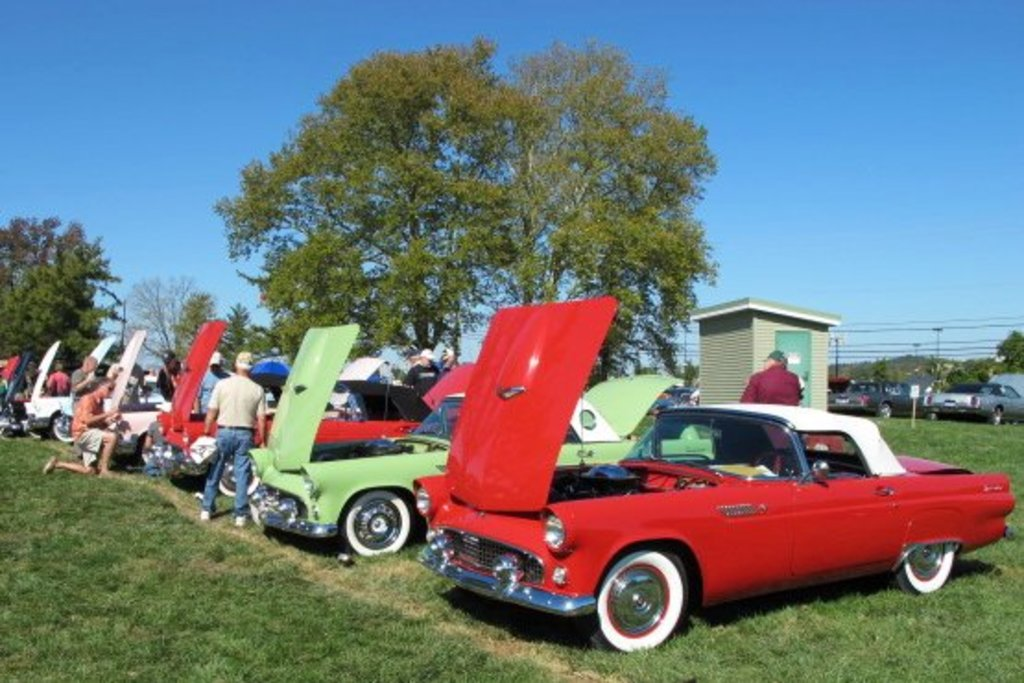Car: (3, 287, 1022, 659)
